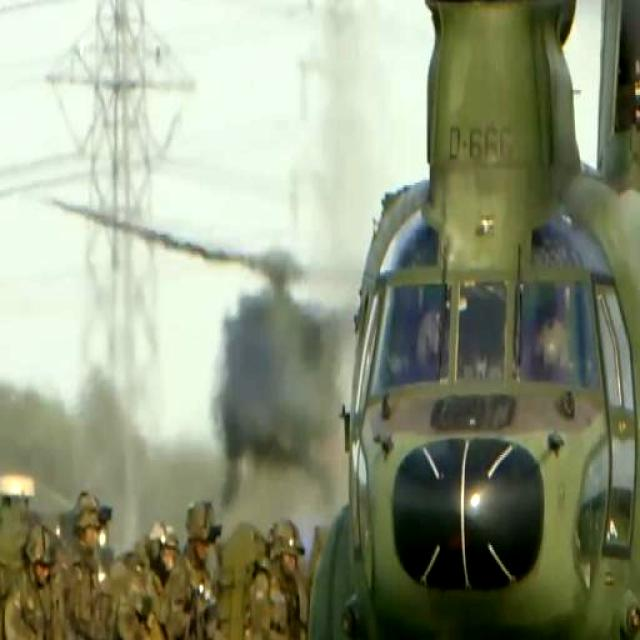drone: (296, 0, 640, 640)
